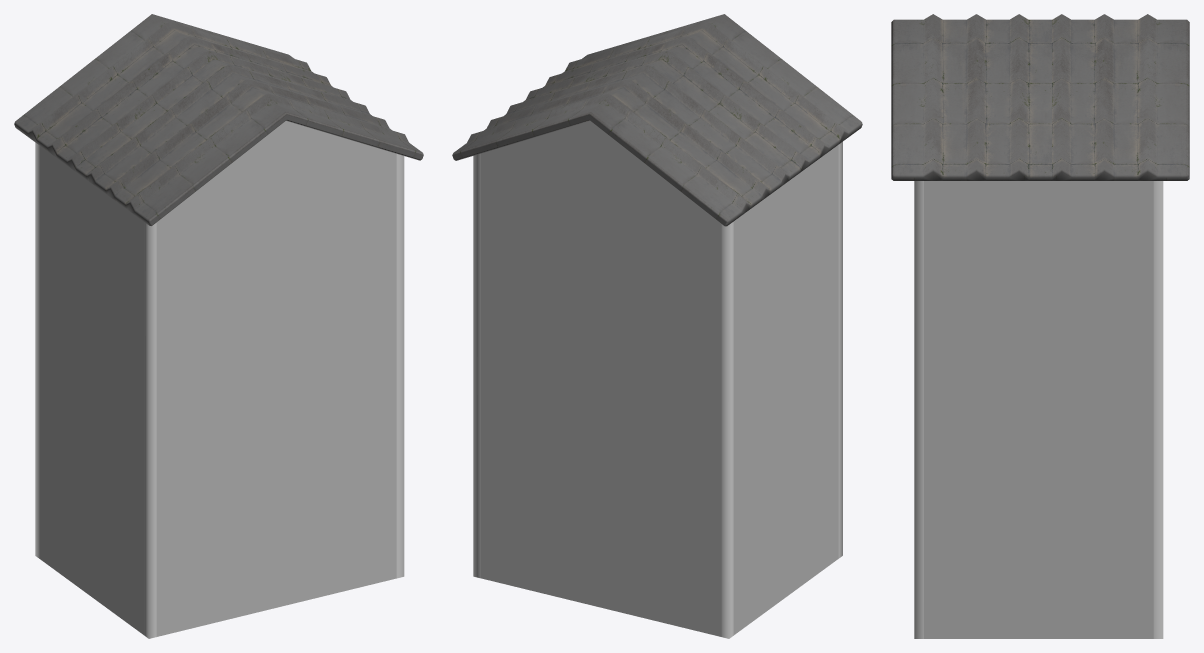
File: Extension_E.fbx
3 views of the same model, side by side, from view 1: azimuth 30°, elevation 25°; view 2: azimuth 150°, elevation 25°; view 3: azimuth 270°, elevation 25° (orthographic). The views are drawn at different scales.
Visible parts, largest first — view 1: Extension_E; view 2: Extension_E; view 3: Extension_E.
Boxes of the visible parts, left/top/right/bottom form: Extension_E: left=14, top=14, right=423, bottom=638; Extension_E: left=452, top=14, right=862, bottom=638; Extension_E: left=891, top=14, right=1189, bottom=638.
Bounding box in the file's own units: 218 × 385 × 187.
